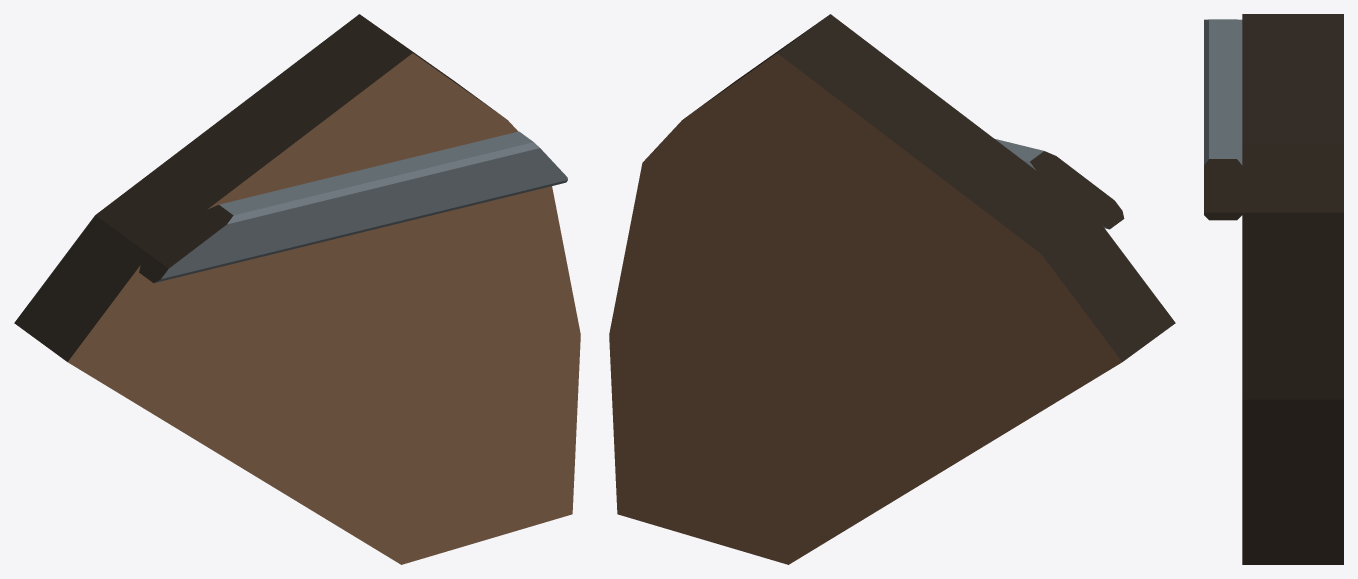
Rendered from SM_DoorShard_02_29.fbx.
The picture shows the model from 3 angles, left to right: view 1: azimuth 30°, elevation 25°; view 2: azimuth 150°, elevation 25°; view 3: azimuth 270°, elevation 25°; orthographic projection. The views are drawn at different scales.
Visible parts, largest first — view 1: SM_DoorShard_02_29; view 2: SM_DoorShard_02_29; view 3: SM_DoorShard_02_29.
Boxes of the visible parts, box(x1,y1,x2,y2) form: SM_DoorShard_02_29: box(14, 14, 580, 564); SM_DoorShard_02_29: box(609, 14, 1175, 564); SM_DoorShard_02_29: box(1204, 14, 1343, 564).
Size of the model in its own units: 88.82 by 22 by 84.18.
